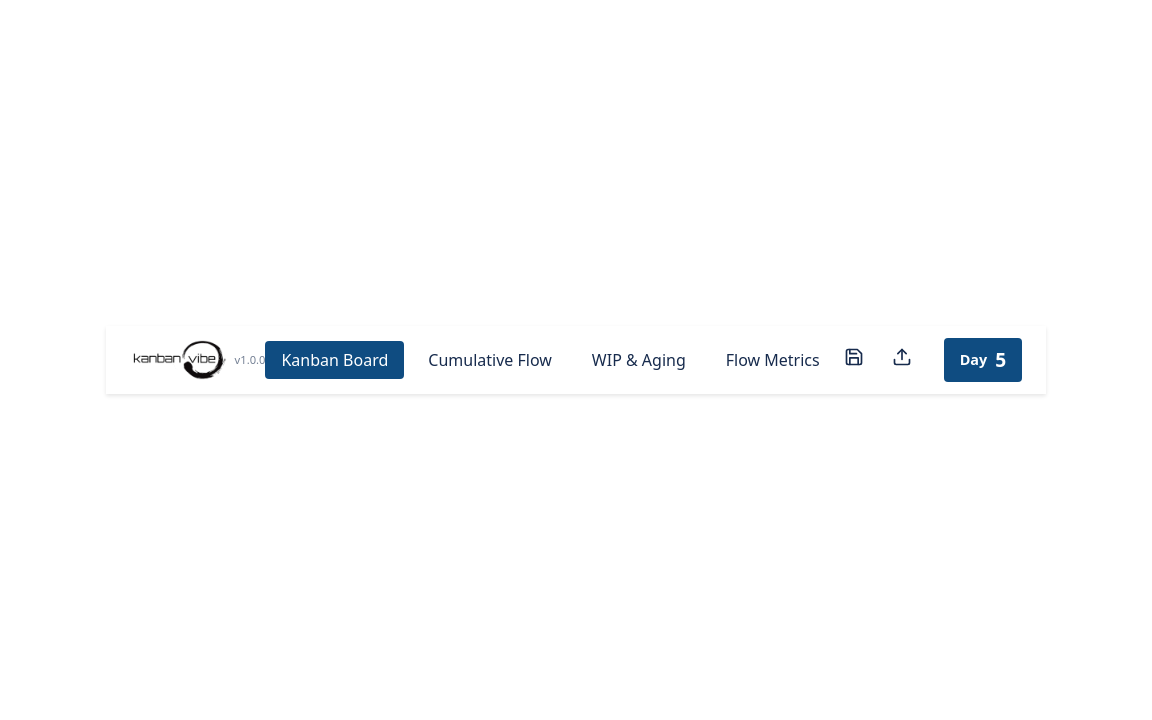
Scenario: NavigationBar Component › Save Slots › opens SlotManager when Manage Slots is clicked
Click the button named "Save options" at x=854, y=360, box [836, 340, 872, 380]
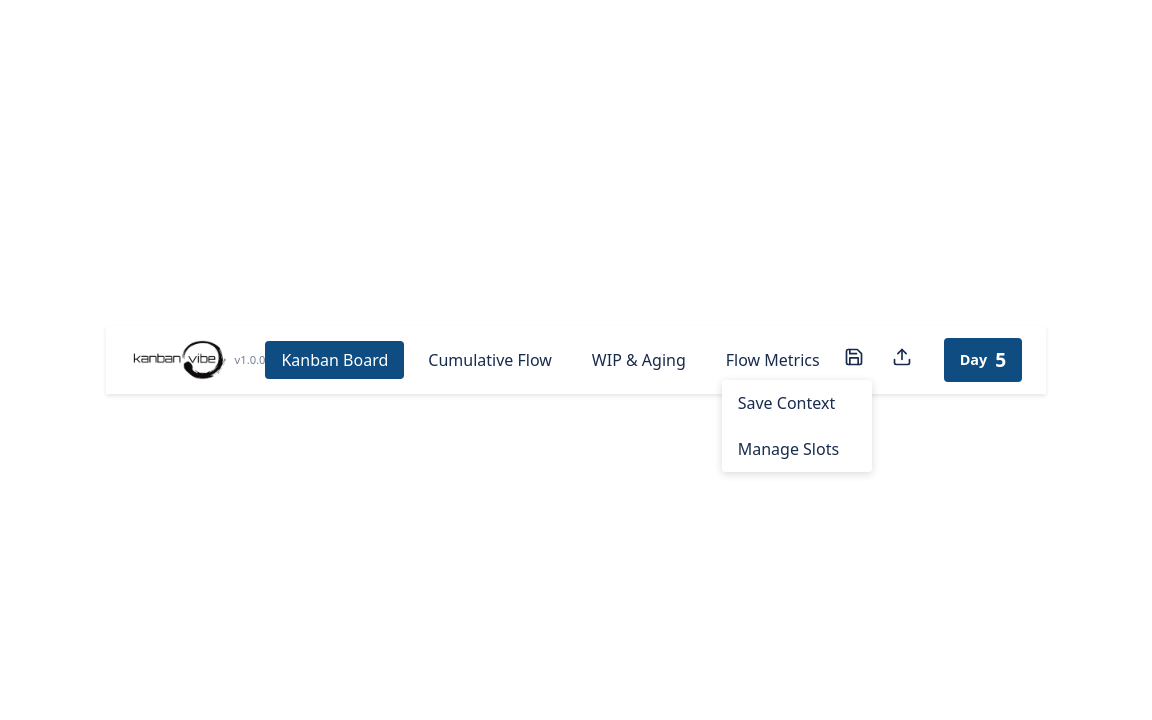
Click the button "Manage Slots" at x=797, y=450, box [722, 426, 872, 472]
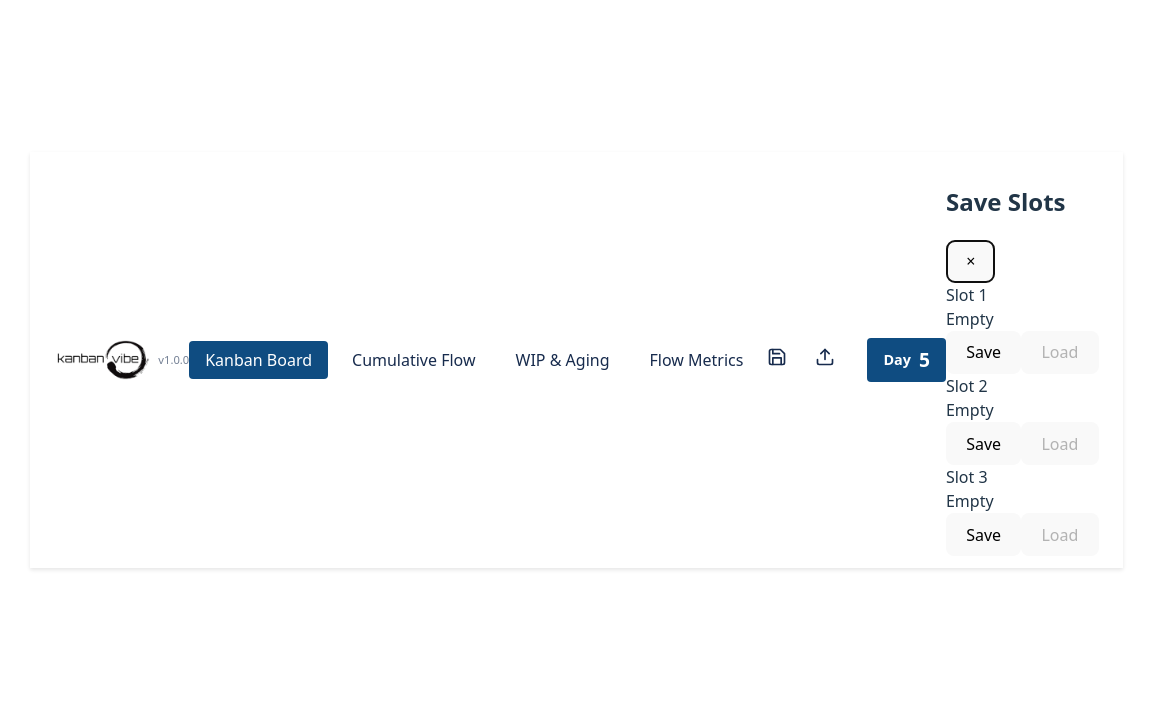
Now the dialog is shown, box [946, 184, 1098, 556]
Now the heading "Save Slots" is shown, box [946, 185, 1065, 218]
